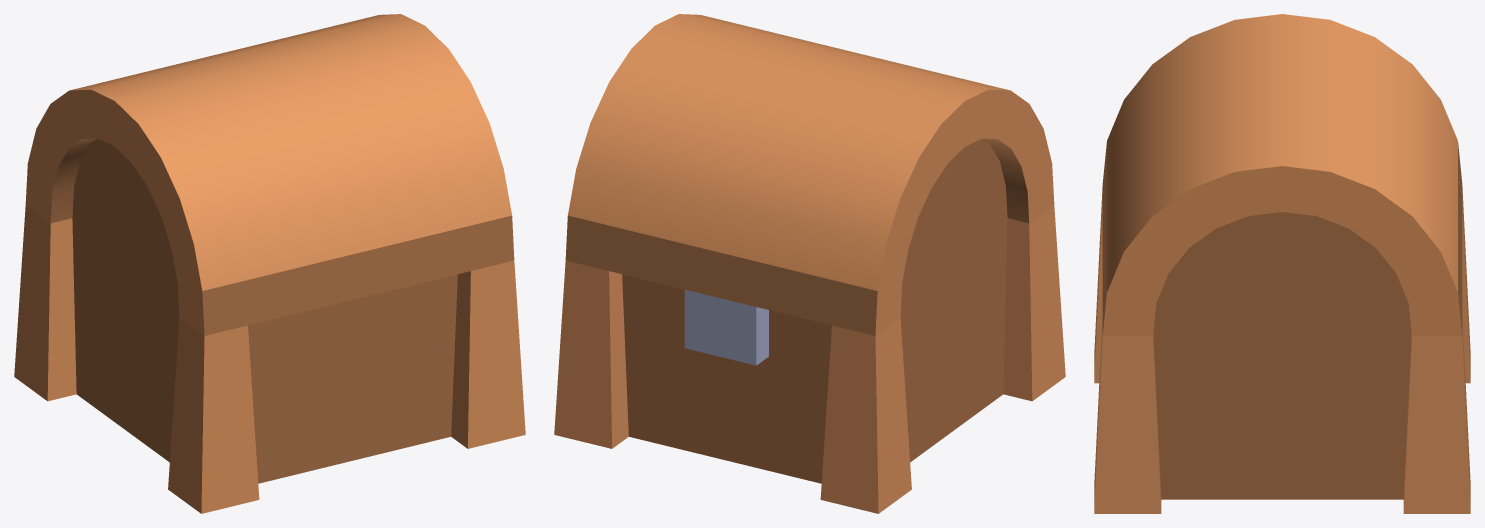
Rendered from chest.fbx.
3 views of the same model, side by side, from view 1: azimuth 30°, elevation 25°; view 2: azimuth 150°, elevation 25°; view 3: azimuth 270°, elevation 25° (orthographic).
Visible parts, largest first — view 1: lid, chest; view 2: lid, chest; view 3: lid, chest.
Boxes of the visible parts, x1,y1,x2,y2 form: lid: [25, 14, 514, 335]; chest: [14, 205, 525, 513]; lid: [565, 14, 1054, 335]; chest: [554, 205, 1065, 513]; lid: [1102, 14, 1462, 336]; chest: [1094, 187, 1470, 513].
Bounding box in the file's own units: 10.42 × 10.51 × 10.42.
